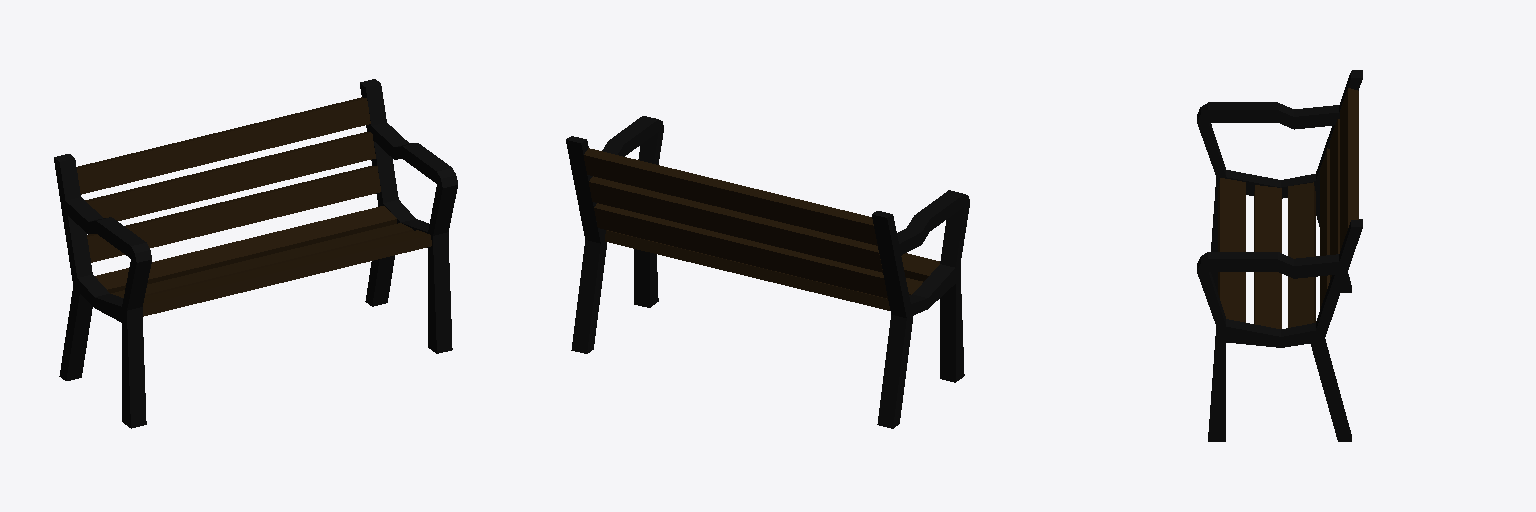
File: BasicBenchOBJ.obj
3 views of the same model, side by side, from view 1: azimuth 30°, elevation 25°; view 2: azimuth 150°, elevation 25°; view 3: azimuth 270°, elevation 25° (orthographic).
Visible parts, largest first — view 1: pCube3 pCube4 pCube5 pCube6 pCube7 pCube8, pCube1 pCube2; view 2: pCube3 pCube4 pCube5 pCube6 pCube7 pCube8, pCube1 pCube2; view 3: pCube1 pCube2, pCube3 pCube4 pCube5 pCube6 pCube7 pCube8.
Boxes of the visible parts, x1=… form: pCube3 pCube4 pCube5 pCube6 pCube7 pCube8: x1=77, y1=97, x2=431, y2=316; pCube1 pCube2: x1=54, y1=79, x2=457, y2=428; pCube3 pCube4 pCube5 pCube6 pCube7 pCube8: x1=584, y1=148, x2=939, y2=310; pCube1 pCube2: x1=566, y1=116, x2=969, y2=428; pCube1 pCube2: x1=1197, y1=70, x2=1362, y2=441; pCube3 pCube4 pCube5 pCube6 pCube7 pCube8: x1=1218, y1=88, x2=1358, y2=328.
Bounding box in the file's own units: 8.41 × 5.37 × 3.77.